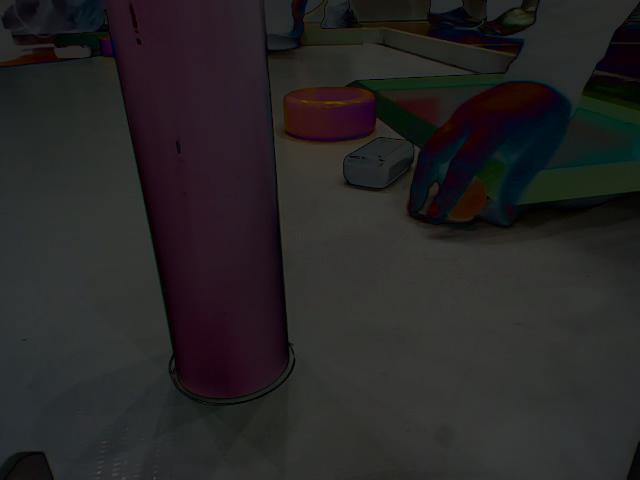black: (344, 138, 419, 193)
kuang: (351, 63, 640, 220)
yellow: (284, 86, 377, 142)
zhuzi: (107, 1, 303, 403)
